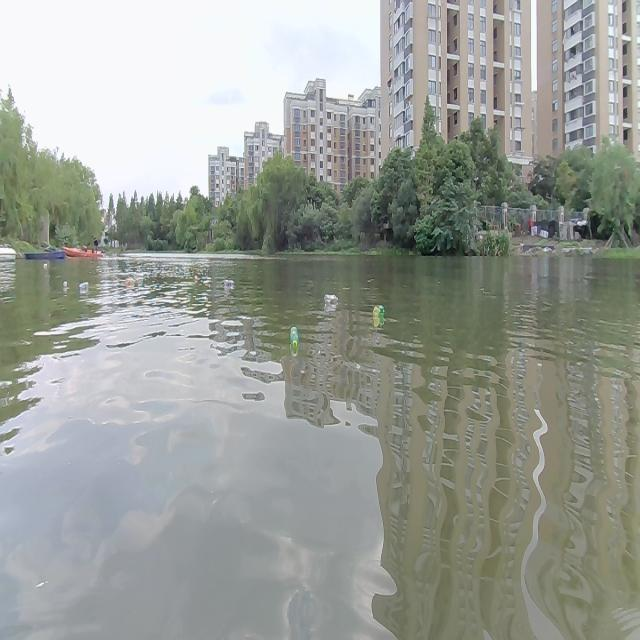bottle: (290, 322, 300, 359), (122, 274, 136, 292), (372, 301, 385, 320), (221, 275, 237, 289), (77, 279, 91, 290), (323, 294, 337, 304), (62, 278, 67, 292)
